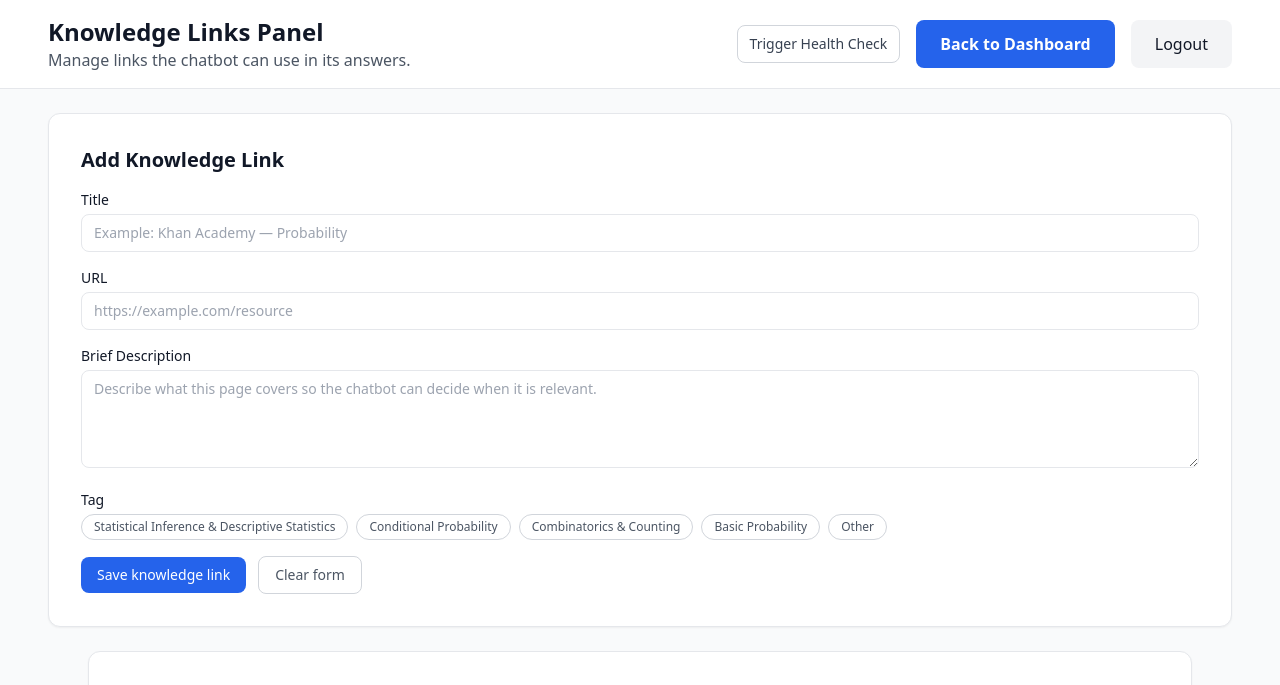
it: LinkPanelPage › shows hints for duplicate and unique URLs
The image size is (1280, 685).
Type "https://khanacademy.org/probability" into the field with placeholder "https://example.com/resource" at point(640, 311), box left=81, top=292, right=1199, bottom=330
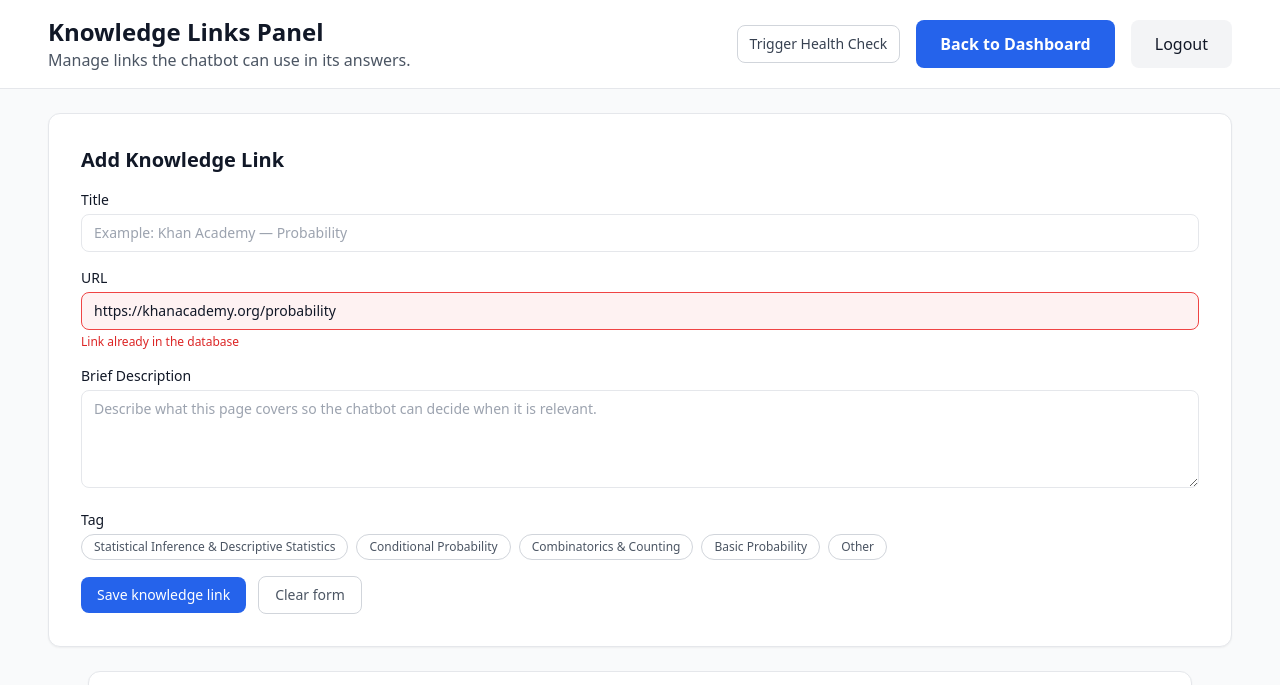
Expected: the text "Link already in the database" is shown, left=81, top=333, right=239, bottom=350
Replace the text in the 2nd field with "https://example.com/unique" at point(640, 311), box left=81, top=292, right=1199, bottom=330
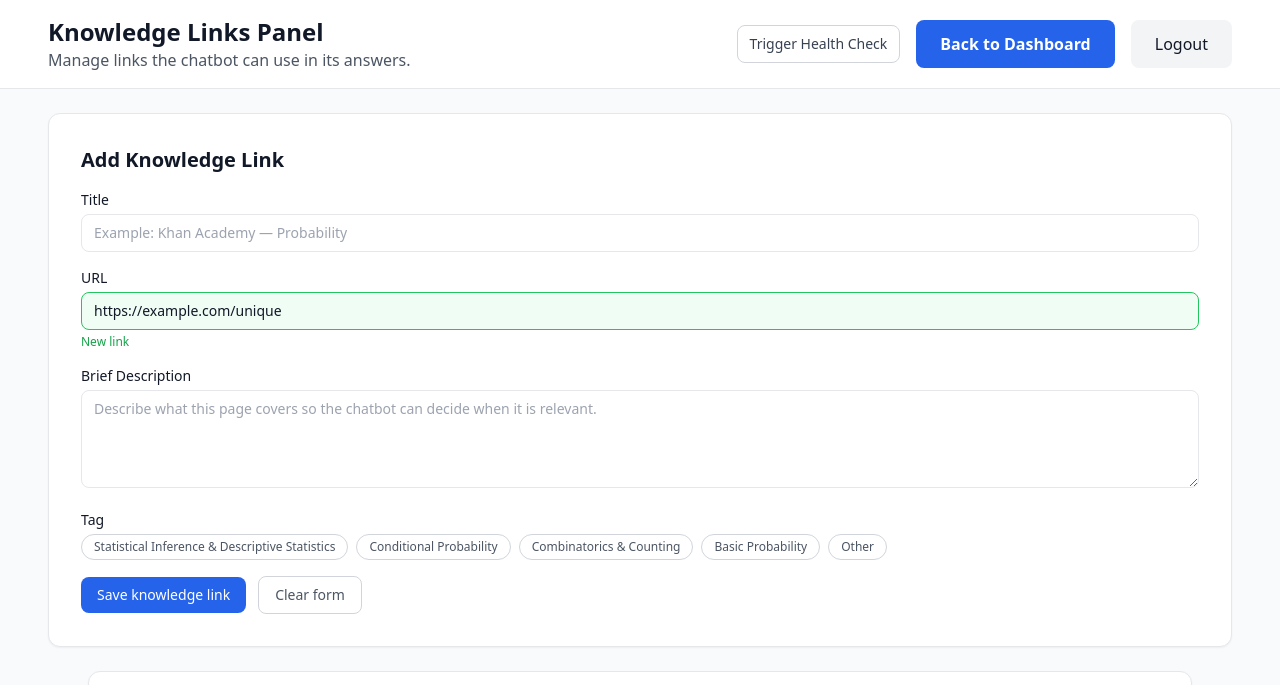
Expected: the text "New link" is shown, left=81, top=333, right=129, bottom=350
